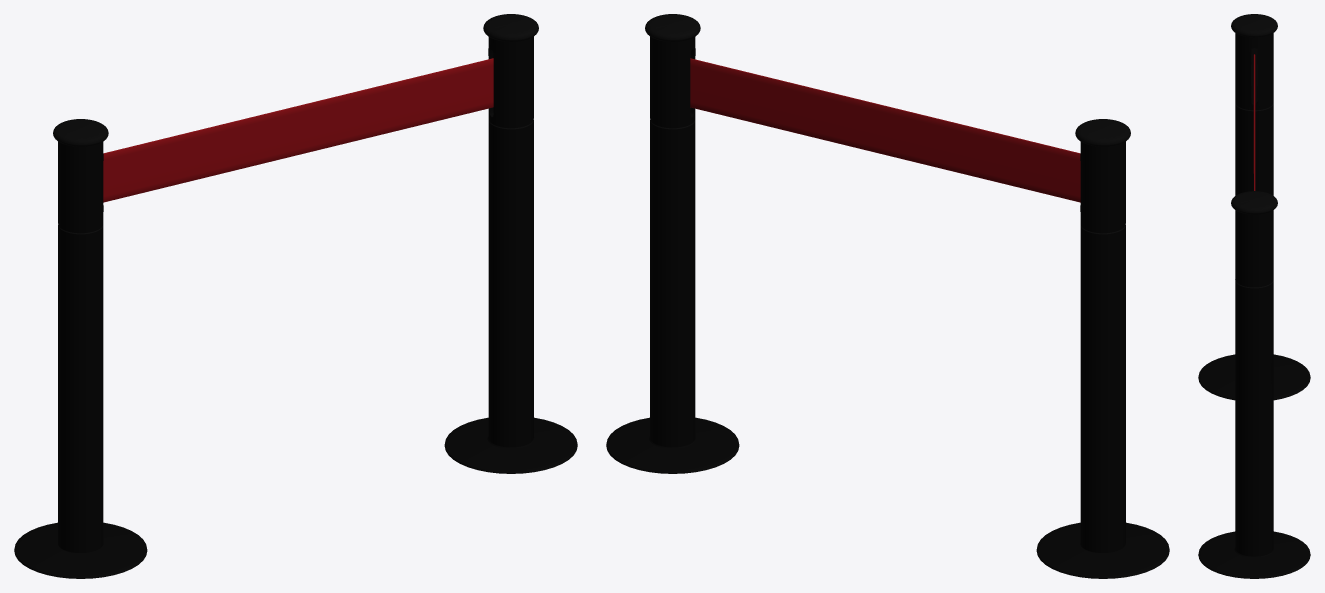
File: fencing.FBX
3 views of the same model, side by side, from view 1: azimuth 30°, elevation 25°; view 2: azimuth 150°, elevation 25°; view 3: azimuth 270°, elevation 25° (orthographic). The views are drawn at different scales.
Visible parts, largest first — view 1: Cylinder001; view 2: Cylinder001; view 3: Cylinder001.
Part boxes in pixels (<box>): Cylinder001: <box>14,14,577,578</box>; Cylinder001: <box>606,14,1169,578</box>; Cylinder001: <box>1198,14,1310,578</box>.
Size of the model in its own units: 821 by 174 by 607.
